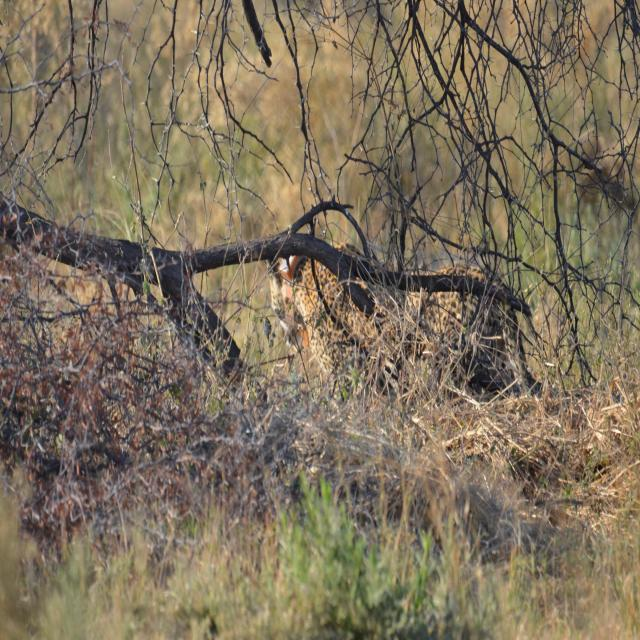Leopard: (264, 237, 545, 403)
